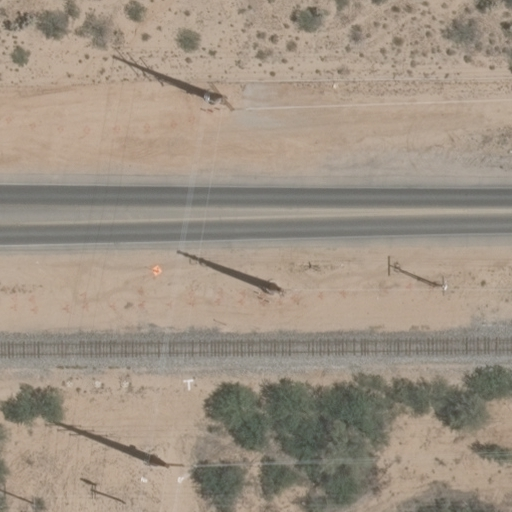DT: (81, 482, 125, 507), (134, 451, 168, 476), (259, 273, 288, 300), (201, 85, 226, 108), (1, 487, 33, 501), (437, 273, 453, 301)
